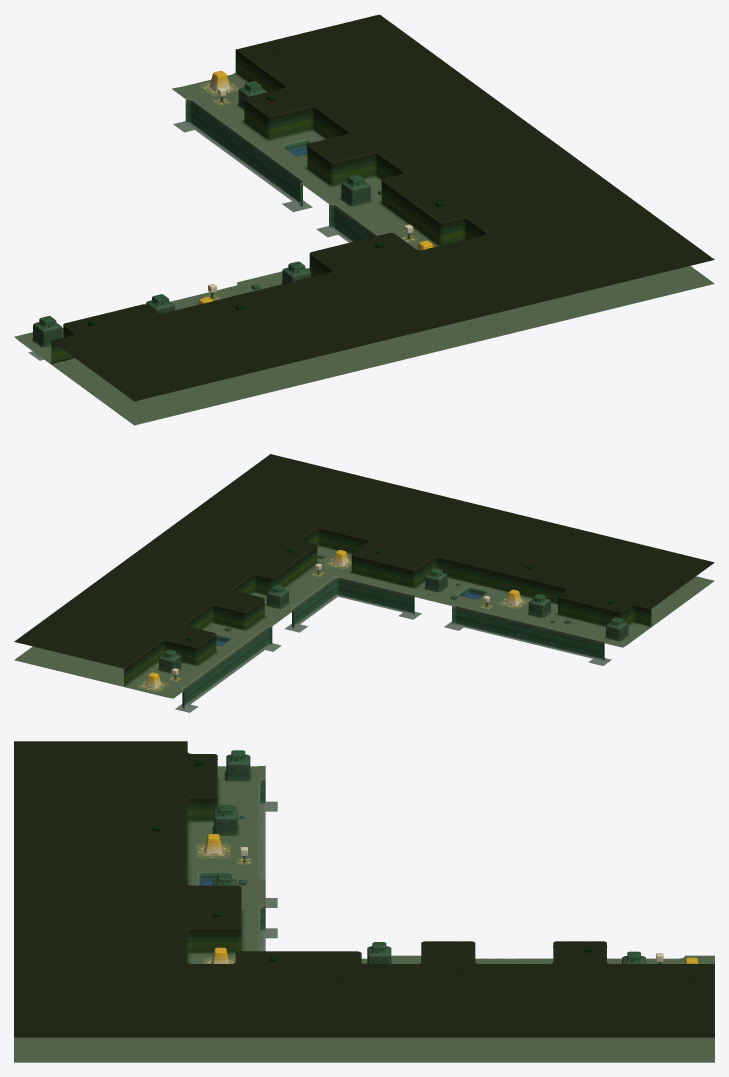
Rendered from C_cave2_out_LU.fbx.
3 views of the same model, one above another, from view 1: azimuth 30°, elevation 25°; view 2: azimuth 150°, elevation 25°; view 3: azimuth 270°, elevation 25° (orthographic). The views are drawn at different scales.
Parts seen in each view (by area): view 1: C_cave2_out_LU; view 2: C_cave2_out_LU; view 3: C_cave2_out_LU.
Boxes of the visible parts, left/top/right/bottom form: C_cave2_out_LU: left=14, top=14, right=714, bottom=425; C_cave2_out_LU: left=14, top=454, right=714, bottom=712; C_cave2_out_LU: left=14, top=741, right=714, bottom=1062.
Bounding box in the file's own units: 117 × 9.82 × 117.
